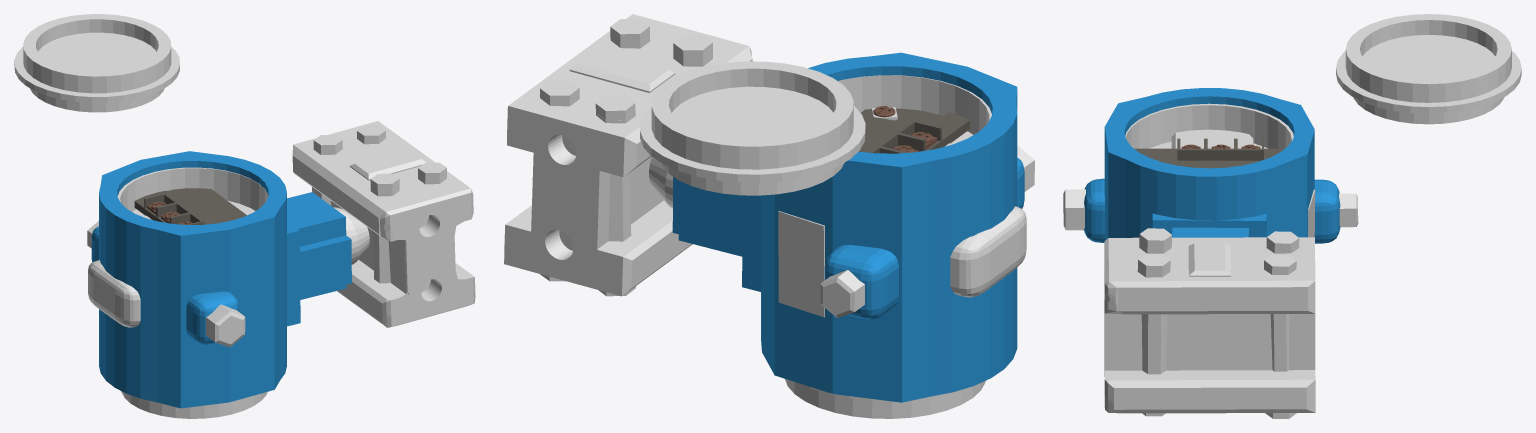
Rendered from TxModel.fbx.
3 views of the same model, side by side, from view 1: azimuth 30°, elevation 25°; view 2: azimuth 150°, elevation 25°; view 3: azimuth 270°, elevation 25° (orthographic). The views are drawn at different scales.
Visible parts, largest first — view 1: Cylinder, Cube, Circle.017, Plane.003, Circle, Cube.003, Plane.006, Circle.018, Cube.002, Cylinder.002, Plane.013, Circle.002 (+5 smaller); view 2: Cylinder, Cube, Circle.017, Plane.003, Circle, Cube.003, Plane.004, Cube.001, Circle.018, Plane.006, Circle.009, Cylinder.001 (+6 smaller); view 3: Cube, Cylinder, Circle.017, Circle, Plane.003, Circle.008, Cube.001, Cube.002, Plane.006, Plane.007, Plane.013, Circle.010 (+6 smaller).
Boxes of the visible parts, x1=… form: Cylinder: x1=99, y1=151, x2=286, y2=408; Cube: x1=292, y1=121, x2=475, y2=327; Circle.017: x1=14, y1=14, x2=179, y2=112; Plane.003: x1=286, y1=192, x2=351, y2=326; Circle: x1=117, y1=167, x2=268, y2=211; Cube.003: x1=88, y1=260, x2=140, y2=327; Plane.006: x1=134, y1=188, x2=246, y2=224; Circle.018: x1=121, y1=391, x2=267, y2=418; Cube.002: x1=186, y1=291, x2=238, y2=344; Cylinder.002: x1=206, y1=304, x2=245, y2=347; Plane.013: x1=144, y1=193, x2=204, y2=224; Circle.002: x1=333, y1=207, x2=369, y2=264; Cylinder: x1=761, y1=52, x2=1017, y2=402; Cube: x1=504, y1=14, x2=752, y2=296; Circle.017: x1=640, y1=61, x2=865, y2=195; Plane.003: x1=672, y1=177, x2=761, y2=292; Circle: x1=838, y1=75, x2=991, y2=134; Cube.003: x1=950, y1=206, x2=1026, y2=297; Plane.004: x1=778, y1=211, x2=824, y2=317; Cube.001: x1=824, y1=244, x2=898, y2=319; Circle.018: x1=785, y1=379, x2=985, y2=418; Plane.006: x1=859, y1=108, x2=969, y2=152; Circle.009: x1=597, y1=114, x2=635, y2=296; Cylinder.001: x1=820, y1=270, x2=864, y2=318; Cube: x1=1104, y1=237, x2=1315, y2=413; Cylinder: x1=1104, y1=88, x2=1314, y2=240; Circle.017: x1=1336, y1=14, x2=1521, y2=124; Circle: x1=1125, y1=103, x2=1293, y2=148; Plane.003: x1=1152, y1=213, x2=1266, y2=237; Circle.008: x1=1141, y1=314, x2=1167, y2=416; Cube.001: x1=1314, y1=179, x2=1340, y2=243; Cube.002: x1=1084, y1=178, x2=1105, y2=242; Plane.006: x1=1134, y1=148, x2=1284, y2=168; Plane.007: x1=1171, y1=129, x2=1253, y2=148; Plane.013: x1=1177, y1=138, x2=1263, y2=160; Circle.010: x1=1265, y1=314, x2=1296, y2=418.
Size of the model in its own units: 401 by 318 by 435.
